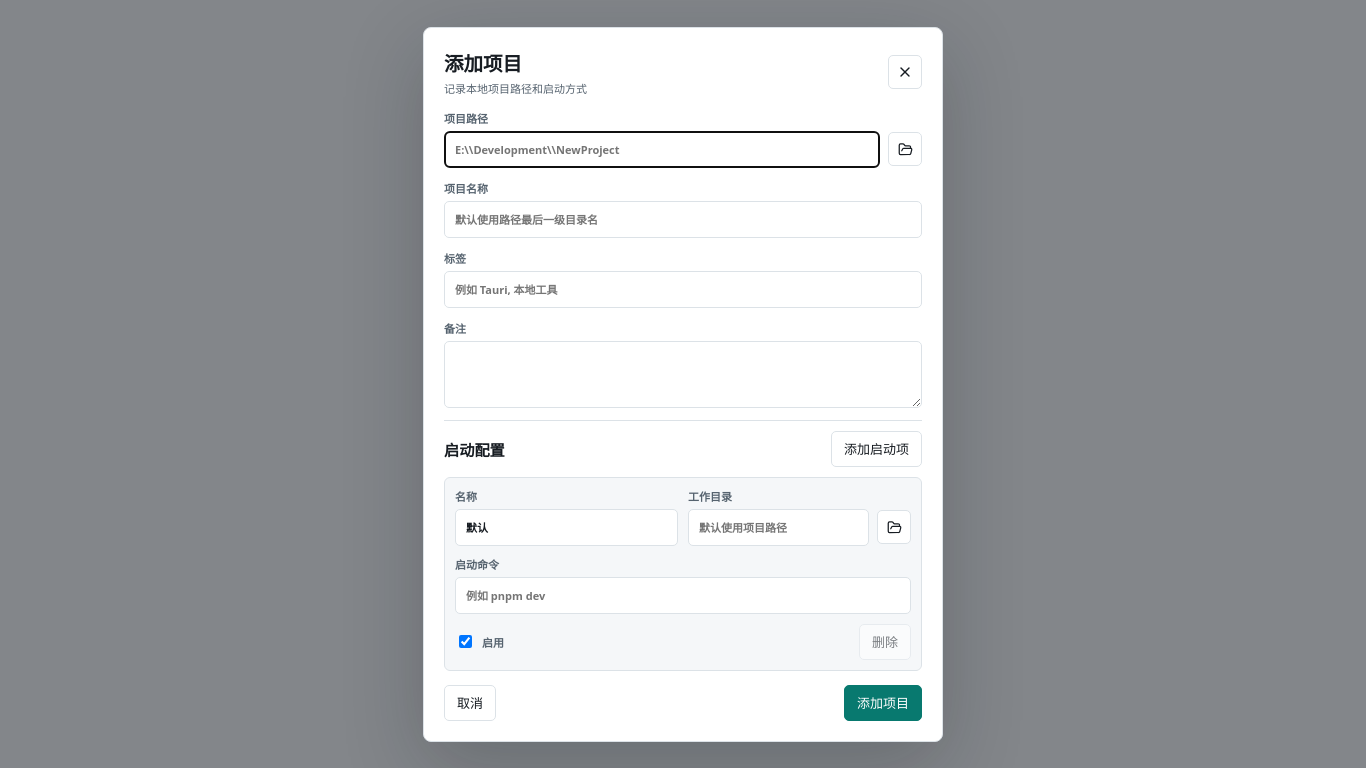
it: Workbench UI interactions › shows validation when project path is missing
The image size is (1366, 768).
Click the button "添加项目" at [883, 702], box left=844, top=684, right=922, bottom=720
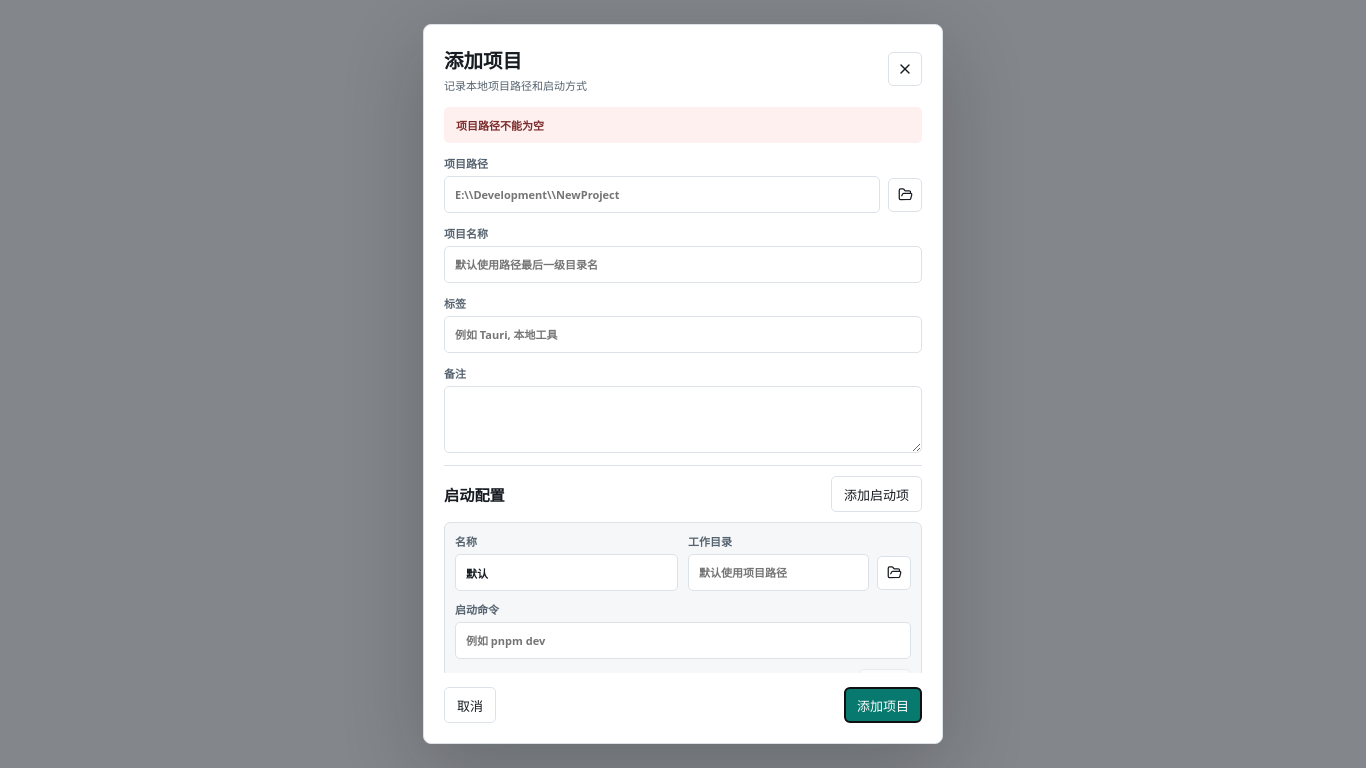
Expected: the text "项目路径不能为空" is shown, left=444, top=107, right=922, bottom=143
